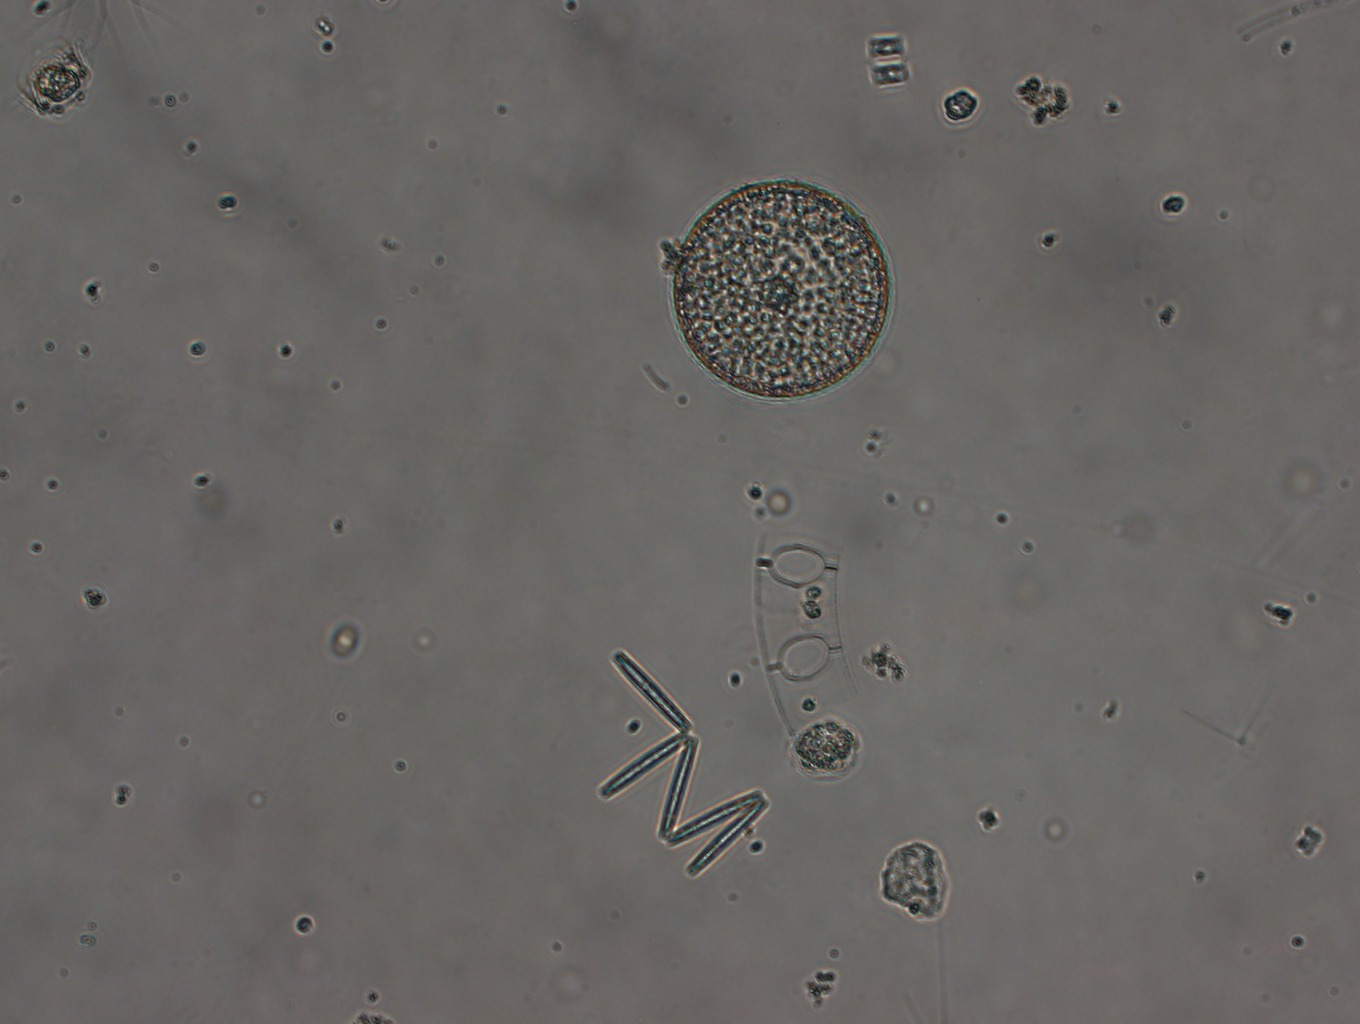coscinodiscus: (665, 175, 890, 401)
eucampia: (755, 528, 859, 728)
thalassionema nitzschioides: (595, 649, 770, 881)
